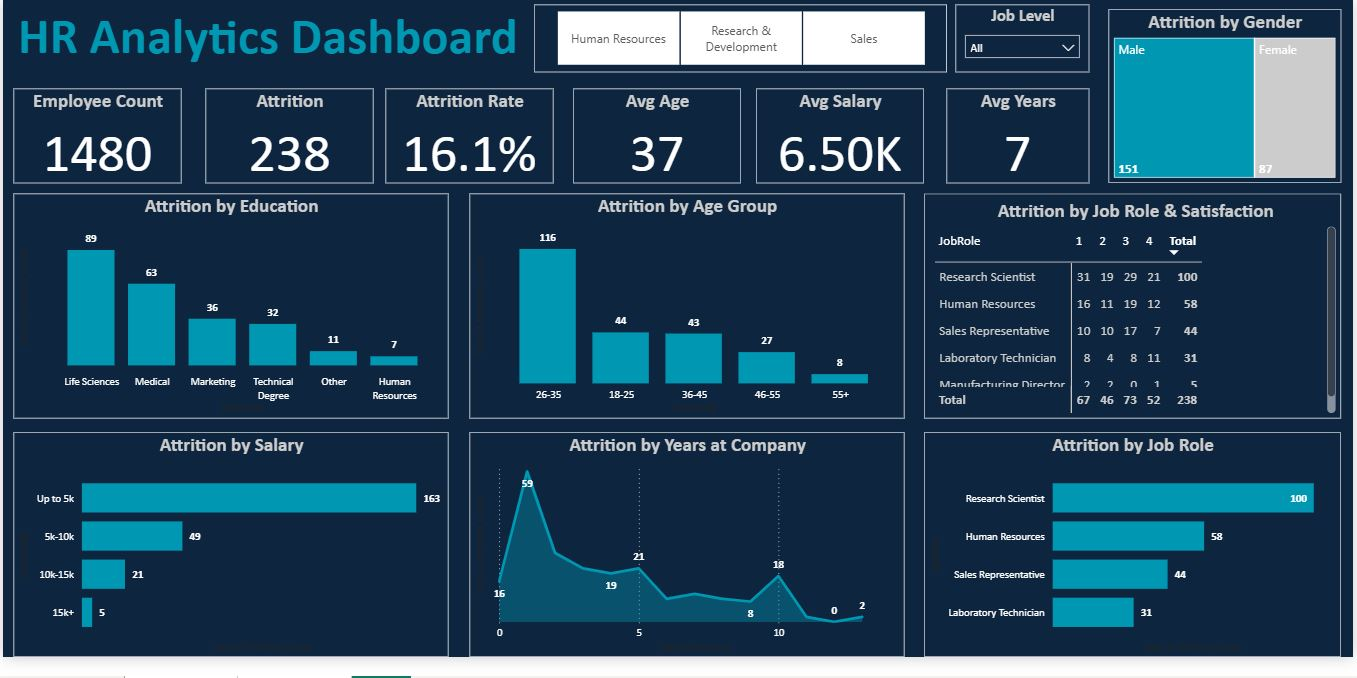

The page's visual inventory and layout, read from the dashboard file:
{"tool":"powerbi","page":{"name":"Page 1","canvas":[1500,730],"ordinal":0},"visuals":[{"type":"card","title":"Employee Count","fields":{"Values":["CountNonNull(HR_Data.EmpID)"]},"box":[11.7,98.3,186.7,105],"z":0},{"type":"textbox","box":[11.7,0,578.3,80],"z":1000},{"type":"slicer","title":"Departments","fields":{"Values":["Departments.Department"]},"box":[590,5,458.3,75],"z":2000},{"type":"treemap","title":"Attrition by Gender","fields":{"Group":["HR_Data.Gender"],"Values":["Sum(HR_Data.Attrition_Count)"]},"box":[1228.3,10,258.3,193.3],"z":3000},{"type":"card","title":"Attrition","fields":{"Values":["Sum(HR_Data.Attrition_Count)"]},"box":[225,98.3,186.7,105],"z":4000},{"type":"card","title":"Attrition Rate","fields":{"Values":["HR_Data.Attrition_Rate"]},"box":[425,98.3,186.7,105],"z":5000},{"type":"card","title":"Avg Age","fields":{"Values":["Avg(HR_Data.Age)"]},"box":[633.3,98.3,186.7,105],"z":6000},{"type":"card","title":"Avg Salary","fields":{"Values":["Avg(HR_Data.MonthlyIncome)"]},"box":[836.7,98.3,186.7,105],"z":7000},{"type":"card","title":"Avg Years","fields":{"Values":["Avg(HR_Data.YearsAtCompany)"]},"box":[1048.3,98.3,158.3,105],"z":8000},{"type":"clusteredColumnChart","title":"Attrition by Education","fields":{"Category":["Education.Education"],"Y":["Sum(HR_Data.Attrition_Count)"]},"box":[11.7,215,483.3,250],"z":9000},{"type":"clusteredBarChart","title":"Attrition by Salary","fields":{"Category":["HR_Data.SalarySlab"],"Y":["Sum(HR_Data.Attrition_Count)"]},"box":[11.7,480,483.3,250],"z":10000},{"type":"clusteredColumnChart","title":"Attrition by Age Group","fields":{"Category":["HR_Data.AgeGroup"],"Y":["Sum(HR_Data.Attrition_Count)"]},"box":[518.3,215,483.3,250],"z":11000},{"type":"clusteredBarChart","title":"Attrition by Job Role","fields":{"Category":["Jobs.JobRole"],"Y":["Sum(HR_Data.Attrition_Count)"]},"box":[1023.3,480,463.3,250],"z":12000},{"type":"areaChart","title":"Attrition by Years at Company","fields":{"Category":["HR_Data.YearsAtCompany"],"Y":["Sum(HR_Data.Attrition_Count)"]},"box":[518.3,480,483.3,250],"z":13000},{"type":"pivotTable","title":"Attrition by Job Role & Satisfaction","fields":{"Rows":["Jobs.JobRole"],"Values":["Sum(HR_Data.Attrition_Count)"],"Columns":["HR_Data.JobSatisfaction"]},"box":[1023.3,215,463.3,250],"z":14000},{"type":"slicer","title":"Job Level","fields":{"Values":["HR_Data.JobLevel"]},"box":[1058.3,5,148.3,75],"z":15000}]}

Visuals, with their boxes in screenshot pixels (x1, y1, x2, y2), scaled from the page's 1500x730 canvas onto the 1357x678 screenshot:
"Employee Count" card: 11/91/179/189
textbox: 11/0/534/74
"Departments" slicer: 534/5/948/74
"Attrition by Gender" treemap: 1111/9/1345/189
"Attrition" card: 204/91/372/189
"Attrition Rate" card: 384/91/553/189
"Avg Age" card: 573/91/742/189
"Avg Salary" card: 757/91/926/189
"Avg Years" card: 948/91/1092/189
"Attrition by Education" clusteredColumnChart: 11/200/448/432
"Attrition by Salary" clusteredBarChart: 11/446/448/677
"Attrition by Age Group" clusteredColumnChart: 469/200/906/432
"Attrition by Job Role" clusteredBarChart: 926/446/1345/677
"Attrition by Years at Company" areaChart: 469/446/906/677
"Attrition by Job Role & Satisfaction" pivotTable: 926/200/1345/432
"Job Level" slicer: 957/5/1092/74
